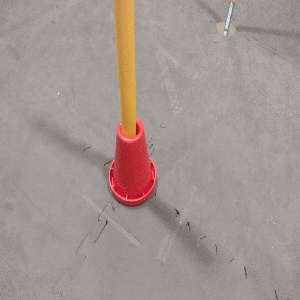Red_1: (108, 114, 157, 207), (102, 157, 107, 160)
